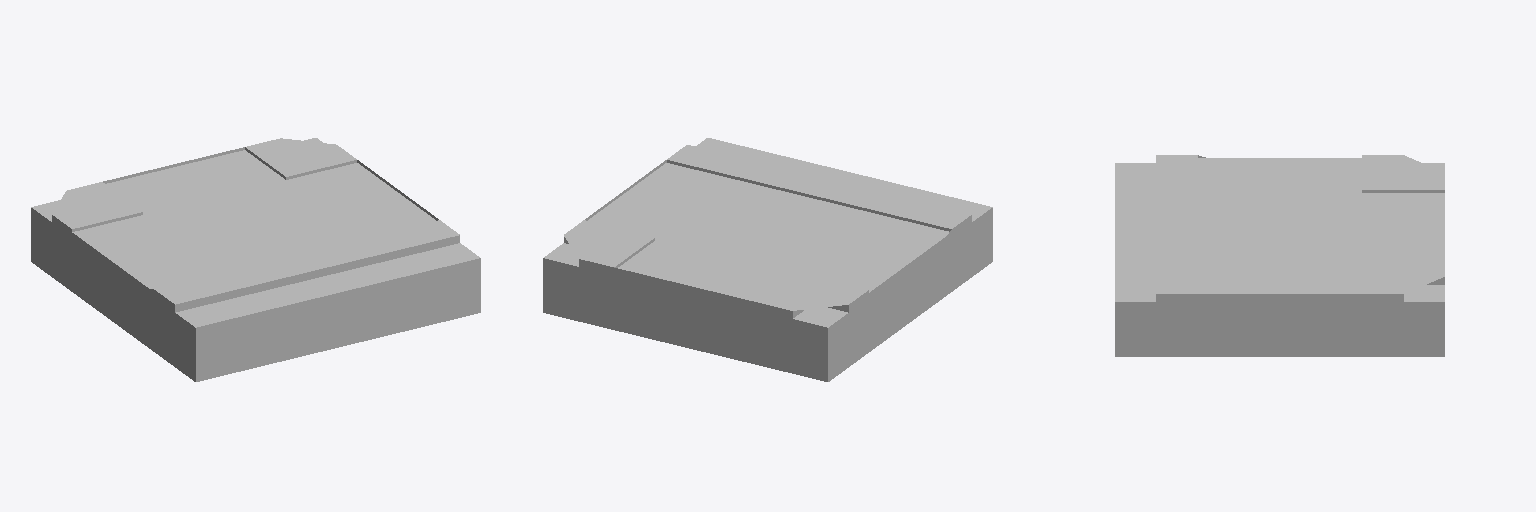
Rendered from roadTile_150.obj.
3 views of the same model, side by side, from view 1: azimuth 30°, elevation 25°; view 2: azimuth 150°, elevation 25°; view 3: azimuth 270°, elevation 25° (orthographic).
Parts seen in each view (by area): view 1: Mesh1_Group1_Model; view 2: Mesh1_Group1_Model; view 3: Mesh1_Group1_Model.
Part boxes in pixels (bbox=[...]): Mesh1_Group1_Model: bbox=[31, 138, 480, 381]; Mesh1_Group1_Model: bbox=[543, 138, 992, 381]; Mesh1_Group1_Model: bbox=[1115, 155, 1444, 356].
Size of the model in its own units: 1.08 by 0.2268 by 1.08.